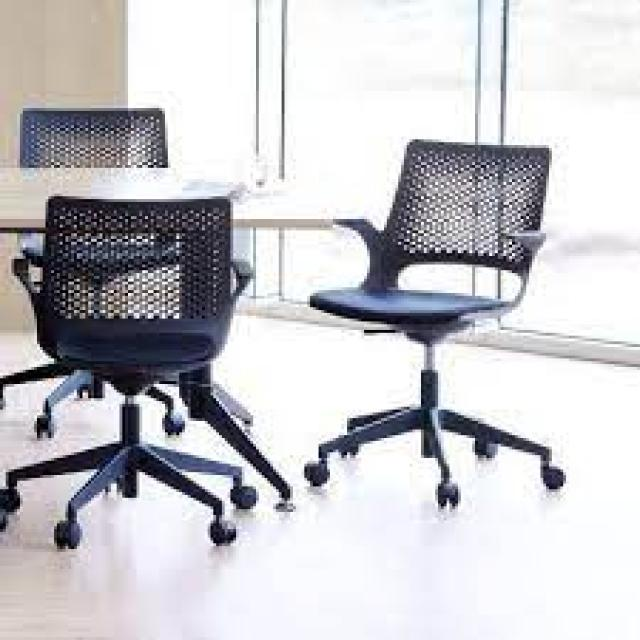chair: (264, 113, 613, 559), (7, 176, 274, 590), (0, 59, 217, 450)
